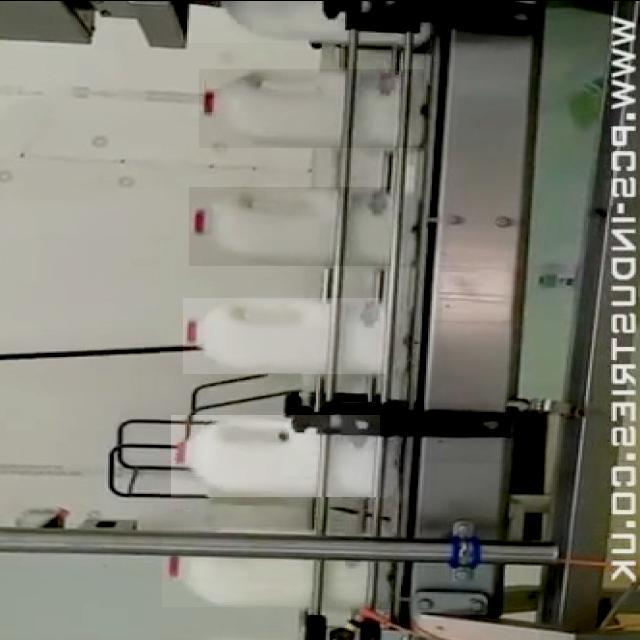milk: (196, 60, 429, 151), (172, 404, 388, 500), (155, 533, 383, 615), (186, 189, 408, 265), (182, 299, 387, 380)
